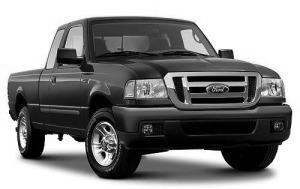car: (8, 17, 292, 181)
